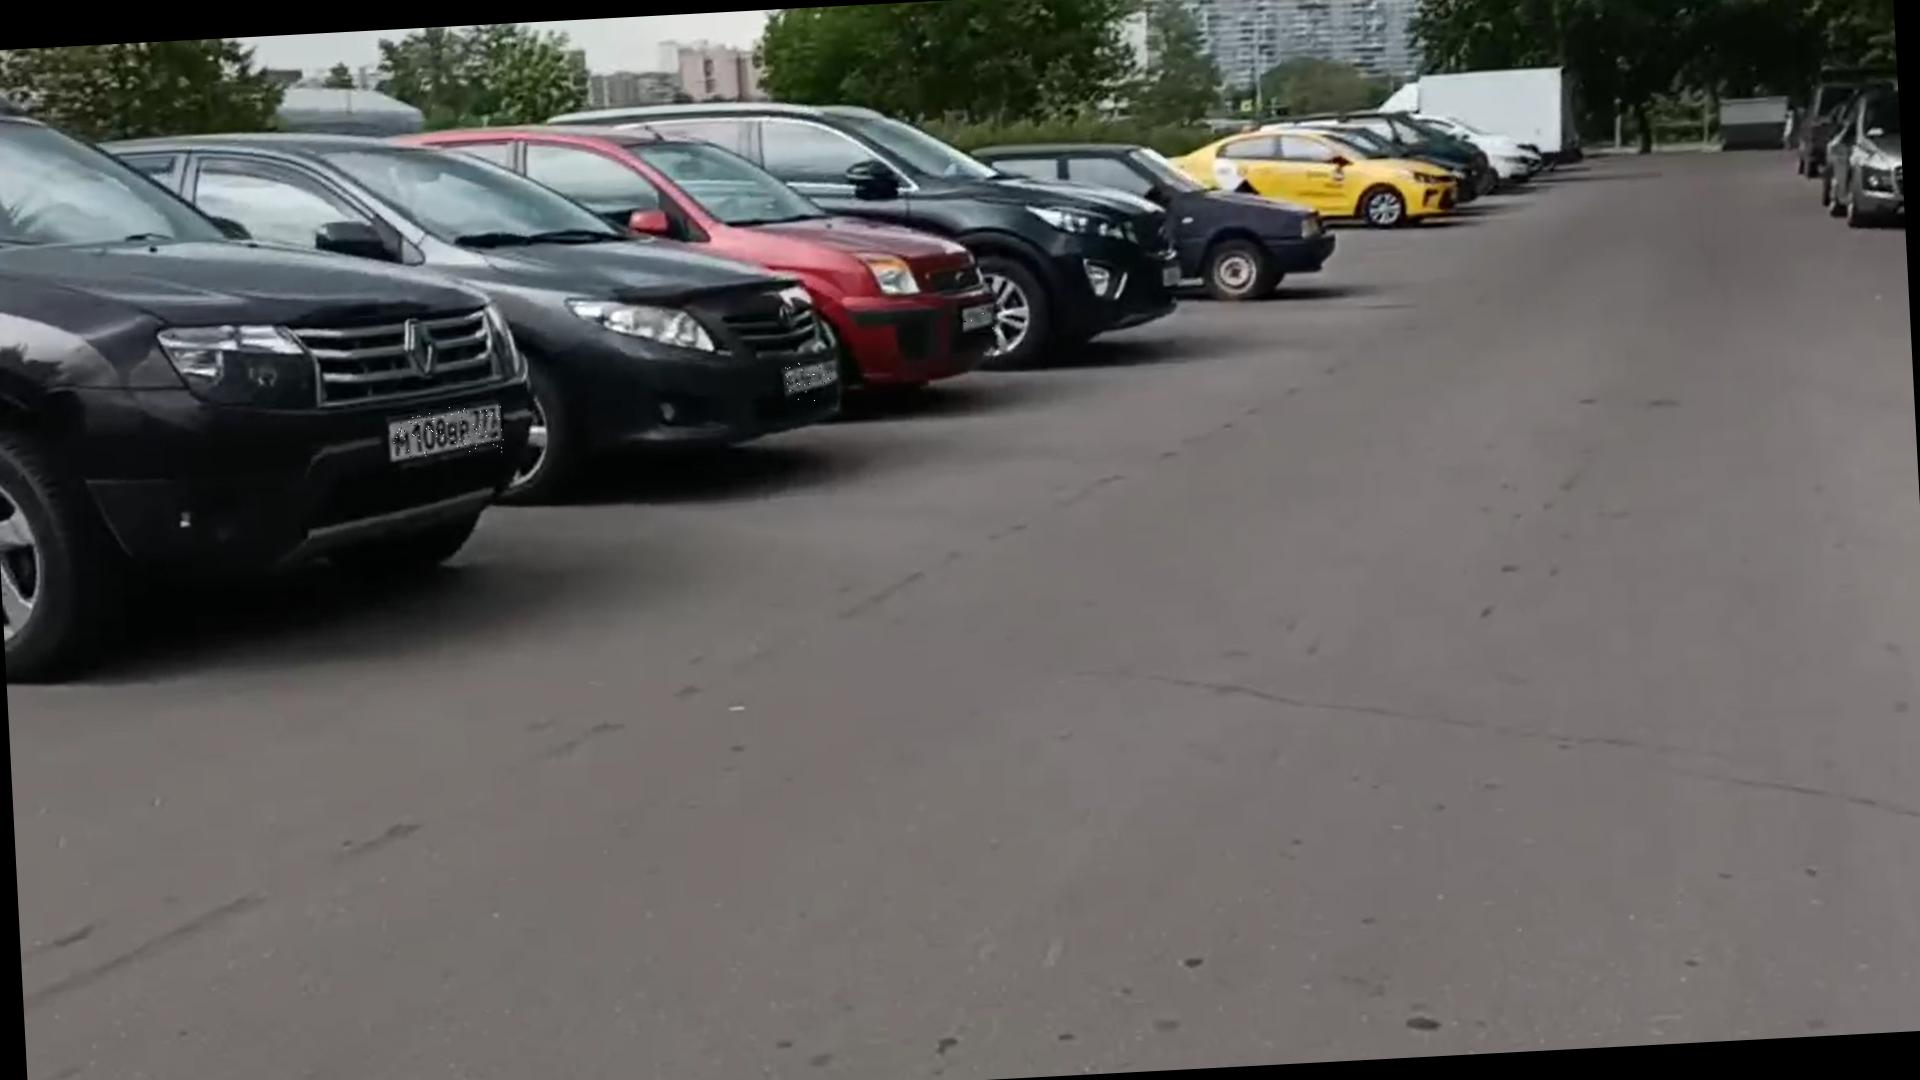plate: (391, 403, 505, 459), (785, 362, 837, 404), (964, 307, 998, 334)
